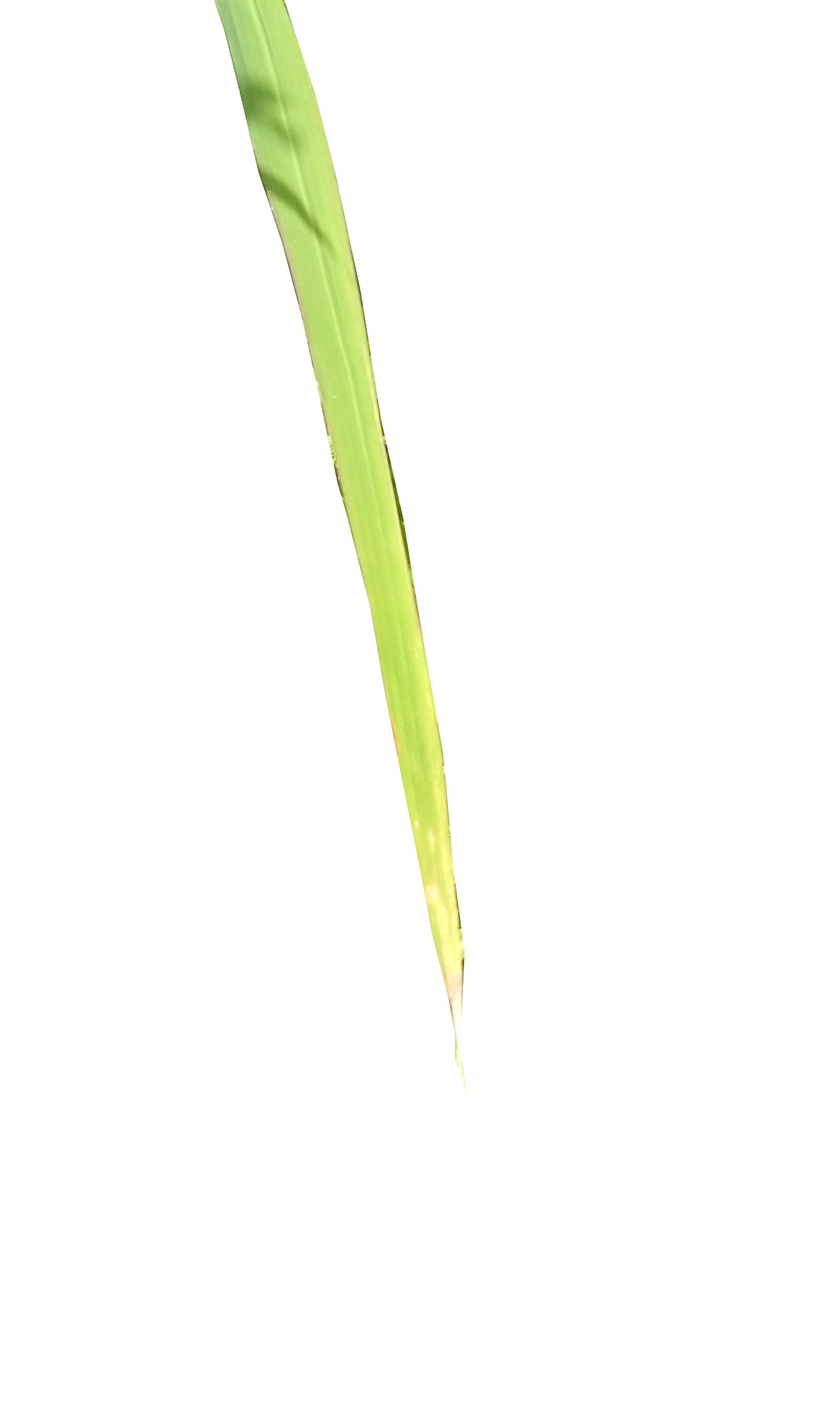Tungro: (211, 0, 467, 1081)
